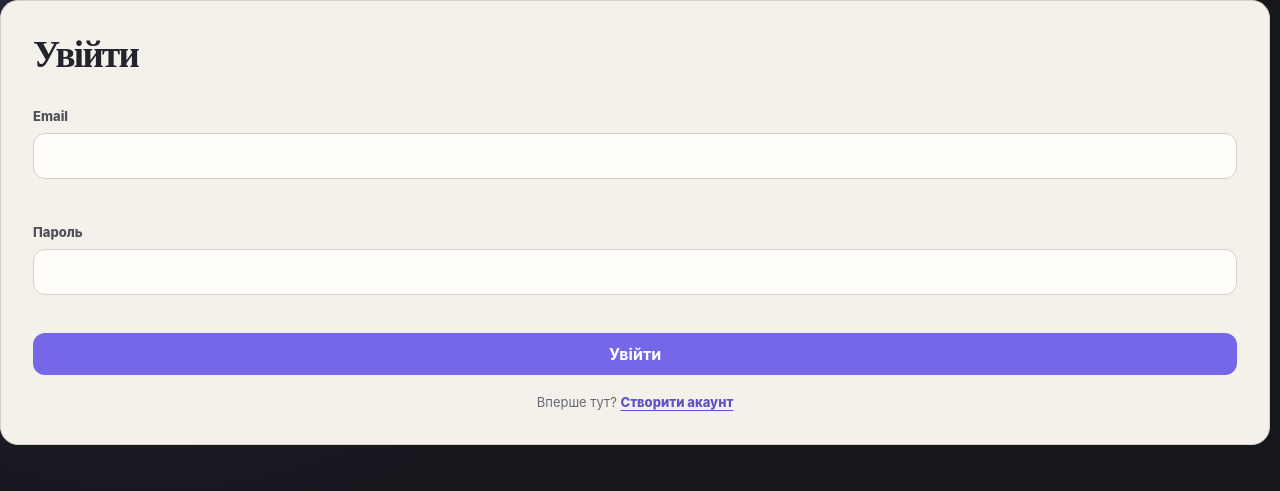
it: AuthForm › recovers from a rejected sign-in request and exposes the error
Type "person@example.com" into the field labelled "Email" at (635, 156), box [33,133,1237,179]
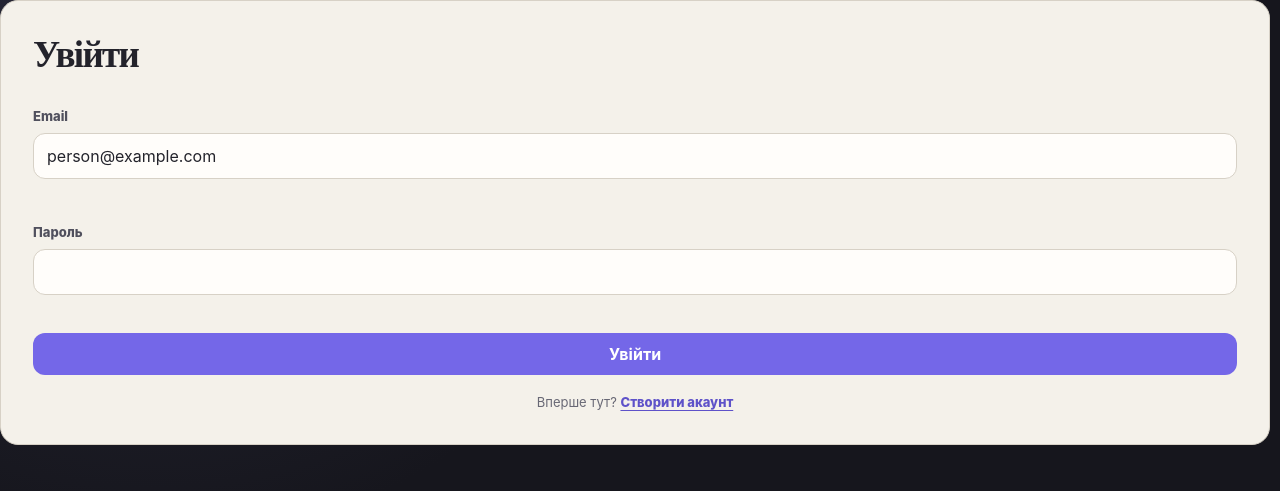
Type "correct horse battery staple" into the password field labelled "Пароль" at (635, 272), box [33,249,1237,295]
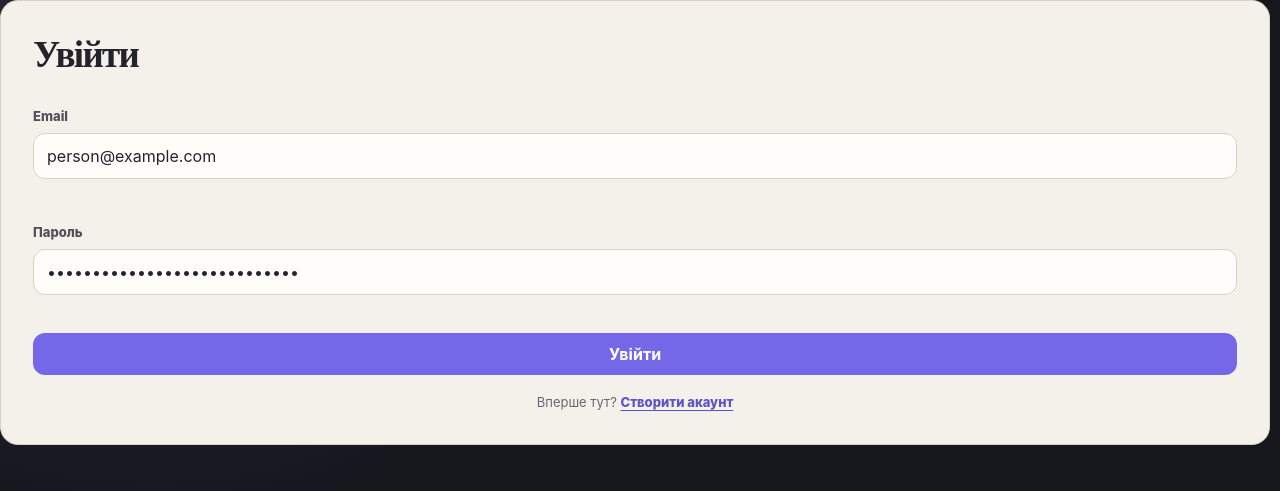
Click the button "Увійти" at (635, 354), box [33,333,1237,375]
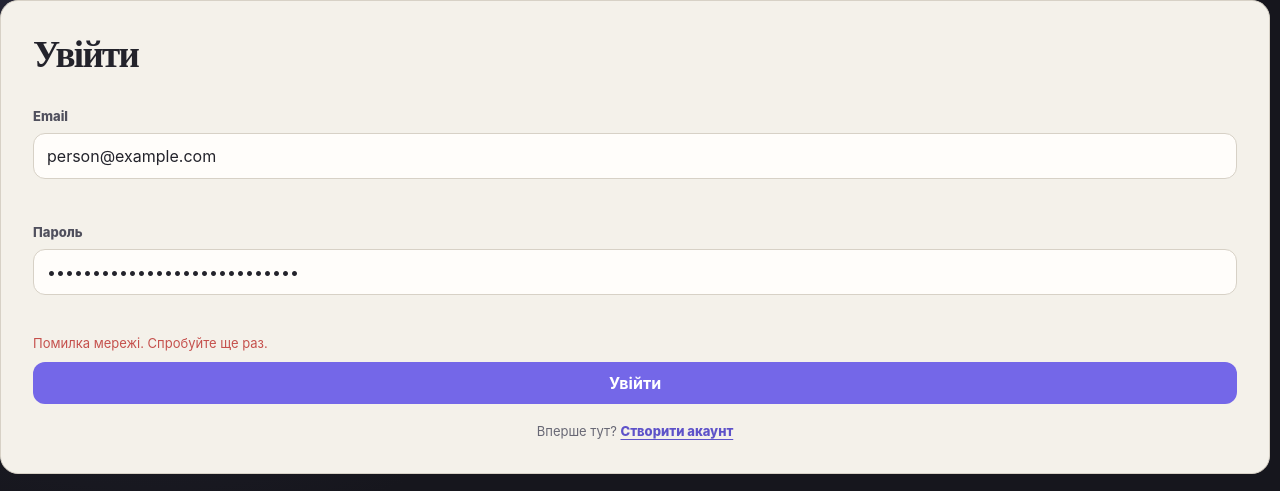
Expected: the button "Увійти" is enabled, [33,362,1237,404]
Result: the message shows "Помилка мережі" at [33,335,268,351]
